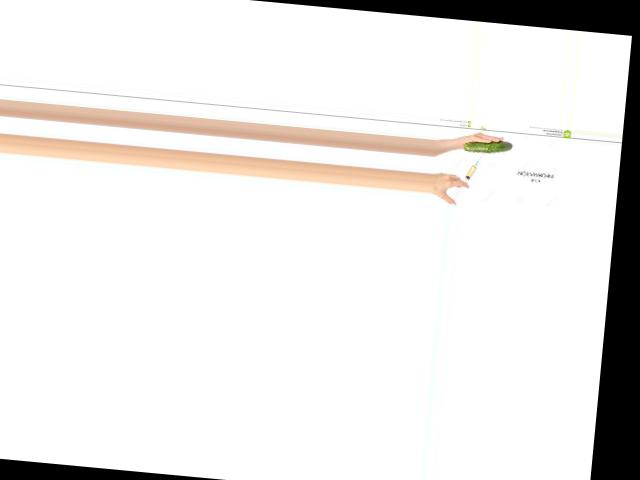cucumber: (463, 137, 512, 154)
